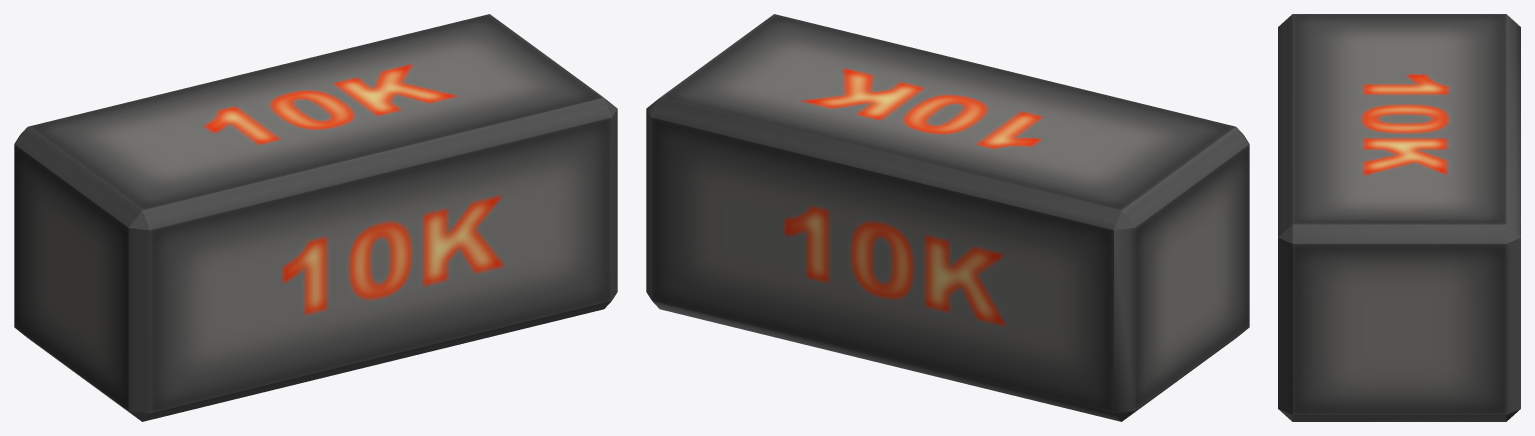
File: Weight_10k.fbx
The picture shows the model from 3 angles, left to right: view 1: azimuth 30°, elevation 25°; view 2: azimuth 150°, elevation 25°; view 3: azimuth 270°, elevation 25°; orthographic projection. The views are drawn at different scales.
Parts seen in each view (by area): view 1: Weight_10k; view 2: Weight_10k; view 3: Weight_10k.
Part boxes in pixels (left/top/right/bottom): Weight_10k: left=14, top=14, right=617, bottom=421; Weight_10k: left=646, top=14, right=1249, bottom=421; Weight_10k: left=1278, top=14, right=1520, bottom=421.
Bounding box in the file's own units: 122 × 50.35 × 56.14.
Materials: 1 (1 with a texture image).
